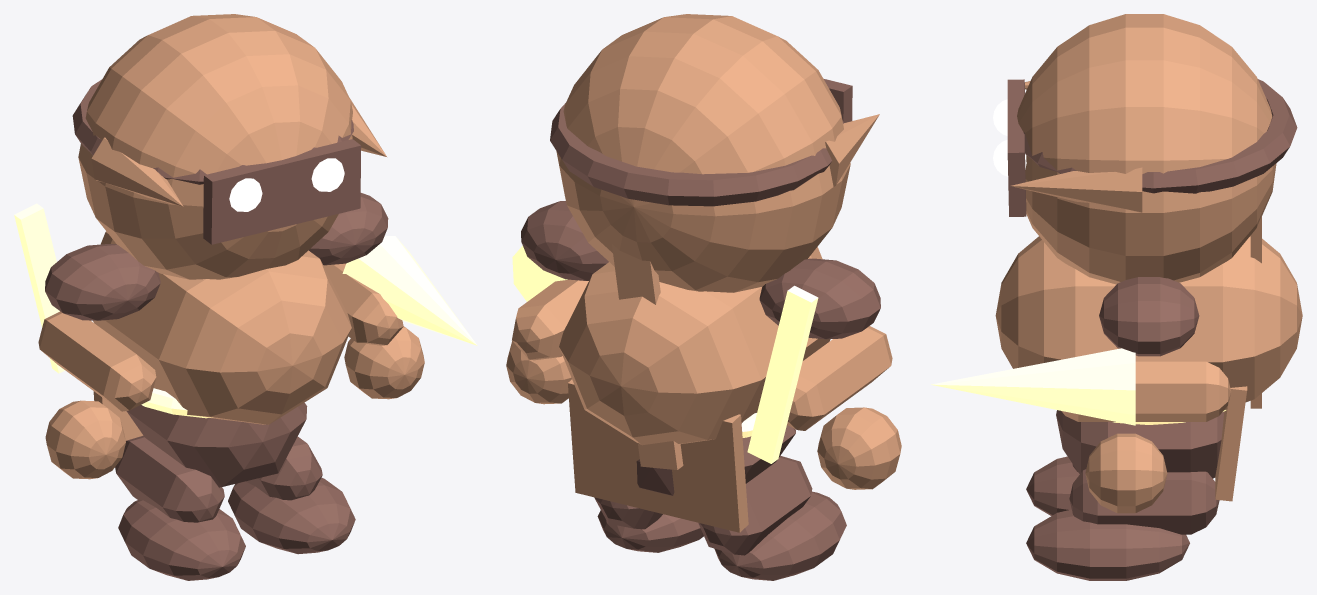
File: monster-runner-sd-toon.glb
3 views of the same model, side by side, from view 1: azimuth 30°, elevation 25°; view 2: azimuth 150°, elevation 25°; view 3: azimuth 270°, elevation 25° (orthographic). The views are drawn at different scales.
Visible parts, largest first — view 1: head, body, mask, pelvis, footL, shoulderL, footR, armL, weapon, legL, handL, handR (+11 smaller); view 2: head, body, cloth, headWrap, shoulderL, armL, footL, signature, handL, legL, shoulderR, armR (+8 smaller); view 3: head, body, weapon, footR, shoulderR, armR, pelvis, headWrap, legR, handR, earR, mask (+3 smaller).
Part boxes in pixels (x1,y1,x2,y2): head: (78, 14, 352, 279); body: (93, 231, 351, 424); mask: (203, 139, 361, 244); pelvis: (126, 402, 307, 487); footL: (118, 500, 245, 580); shoulderL: (45, 244, 160, 320); footR: (228, 477, 355, 554); armL: (38, 311, 156, 411); weapon: (342, 236, 477, 345); legL: (115, 435, 224, 522); handL: (45, 400, 125, 479); handR: (344, 326, 424, 399); head: (556, 14, 850, 292); body: (559, 247, 830, 445); cloth: (568, 379, 748, 532); headWrap: (550, 103, 843, 206); shoulderL: (759, 258, 880, 339); armL: (787, 326, 892, 430); footL: (714, 491, 846, 580); signature: (747, 285, 818, 463); handL: (817, 407, 901, 489); legL: (698, 455, 812, 555); shoulderR: (521, 201, 608, 280); armR: (512, 279, 588, 360); head: (1017, 14, 1276, 284); body: (995, 236, 1302, 410); weapon: (931, 348, 1135, 425); footR: (1026, 509, 1189, 580); shoulderR: (1099, 277, 1199, 356); armR: (1061, 361, 1231, 421); pelvis: (1056, 410, 1224, 478); headWrap: (1023, 79, 1297, 193); legR: (1069, 469, 1219, 534); handR: (1085, 433, 1167, 513); earR: (1011, 167, 1142, 212); mask: (1007, 79, 1026, 216).
Bounding box in the file's own units: 1.87 × 2.51 × 1.63.
